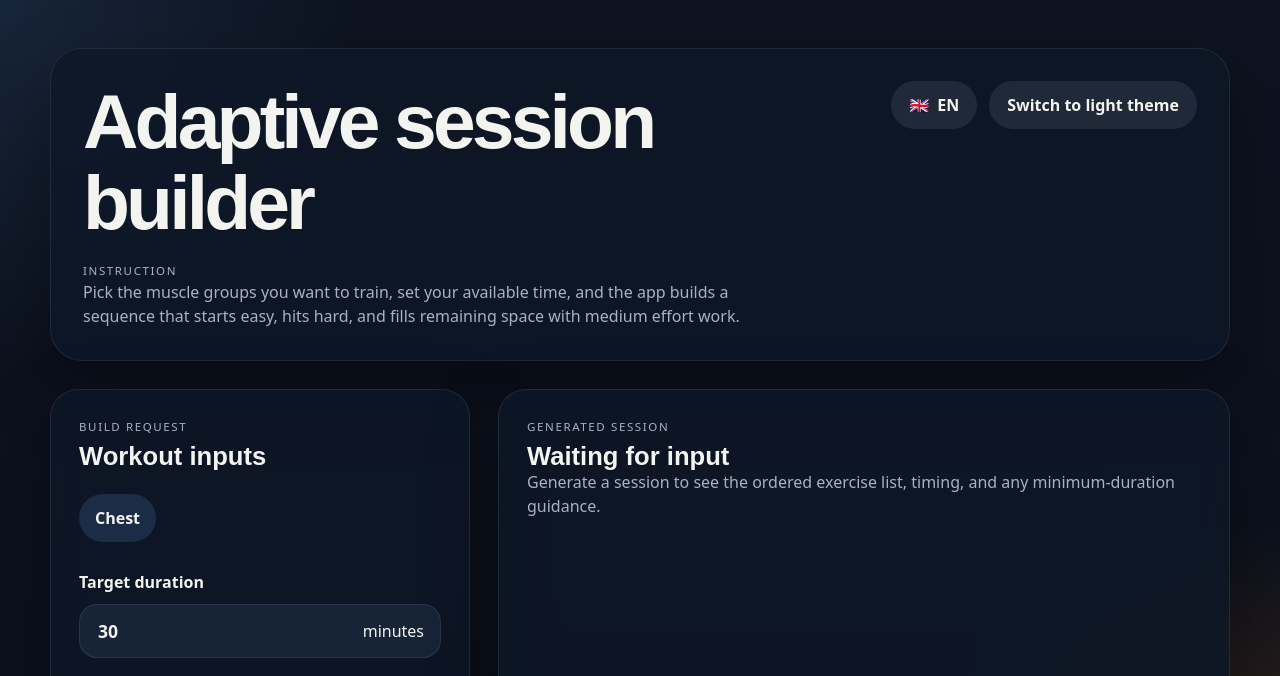
Scenario: App › switches interface language to english
Expected: the button "Chest" is shown, x1=79 y1=494 x2=156 y2=542
Click the button with aria-label "Language" at (934,105), box x1=891 y1=81 x2=977 y2=129
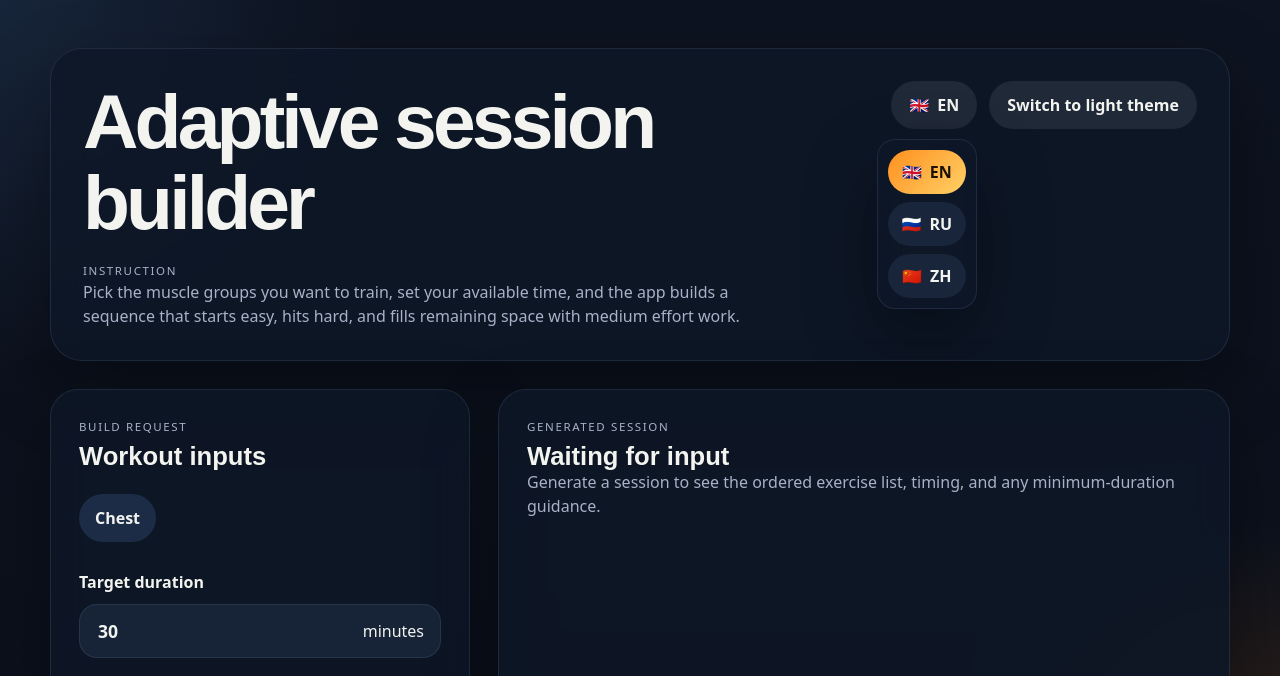
Click the button named "🇷🇺ru" at (927,224), box x1=888 y1=202 x2=966 y2=246
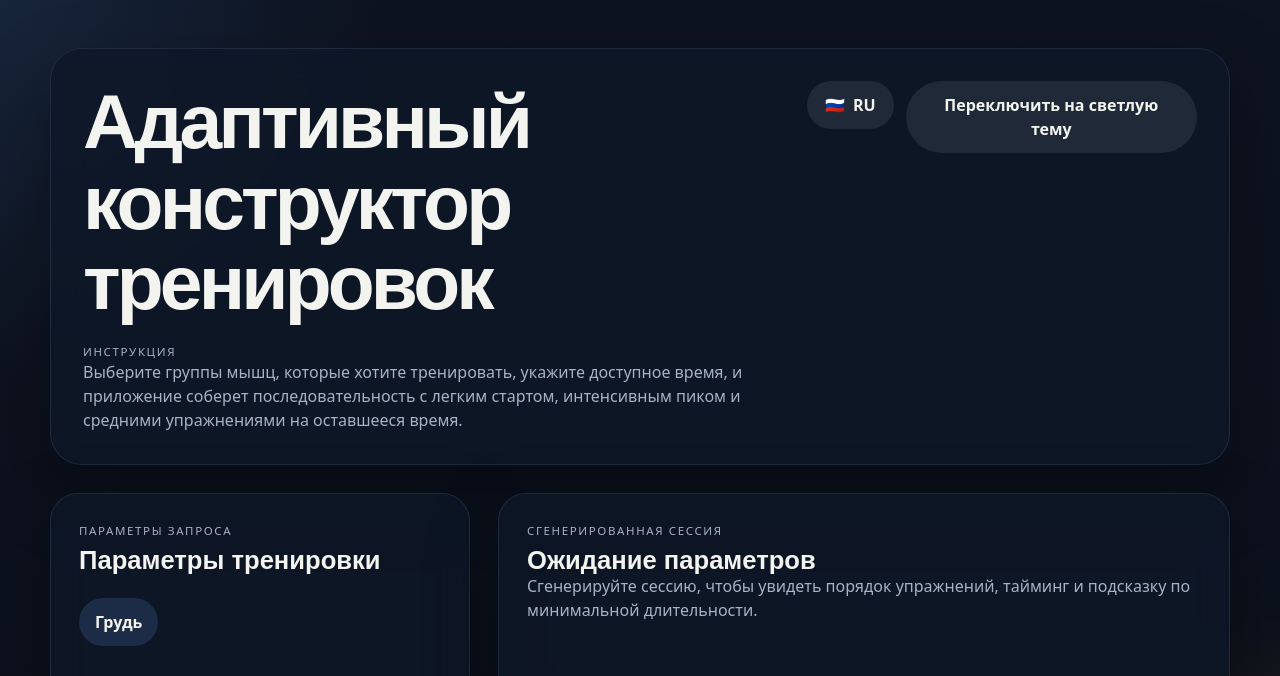
Result: the button "Грудь" is shown at x1=79 y1=598 x2=158 y2=646
Result: the heading "Адаптивный конструктор тренировок" is shown at x1=83 y1=78 x2=529 y2=325
